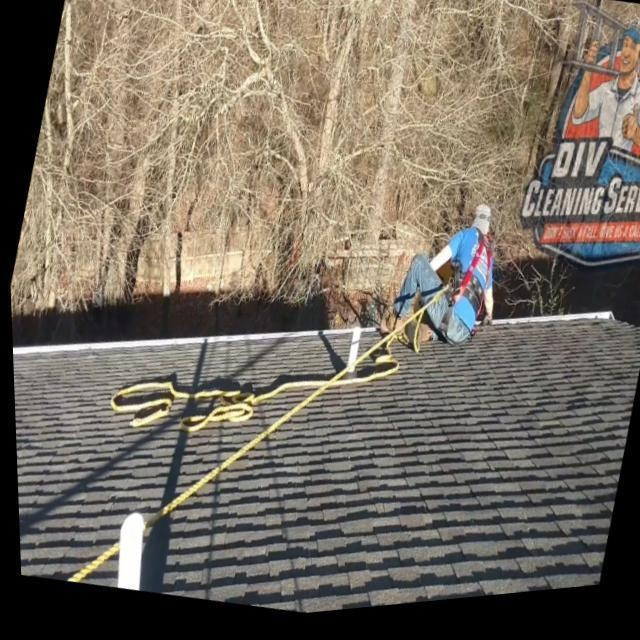Arnes_seguridad: (437, 243, 505, 321)
